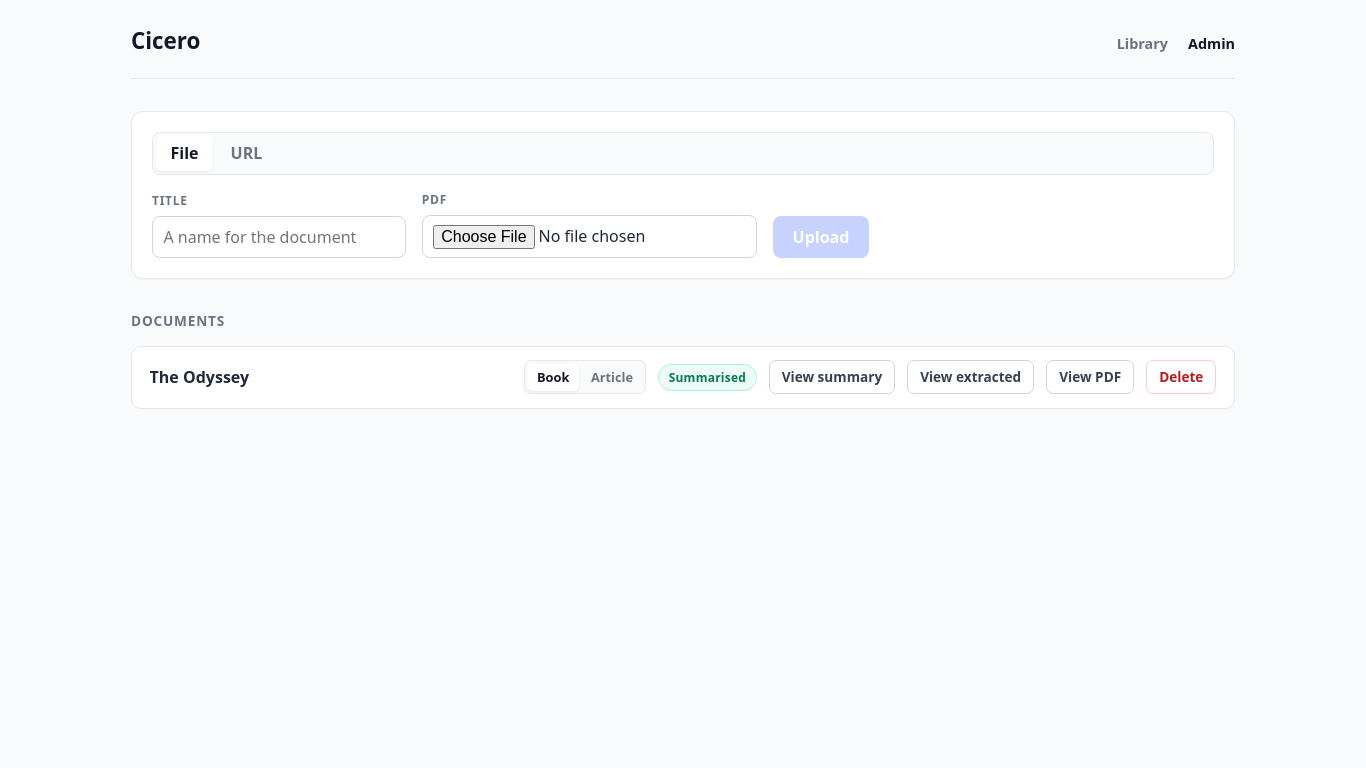
AdminPage › opens a summary for a summarised document
The width and height of the screenshot is (1366, 768).
Expected: the text "The Odyssey" is shown, [150,366,249,388]
Click the button "View summary" at (832, 377), box [769,360,895,394]
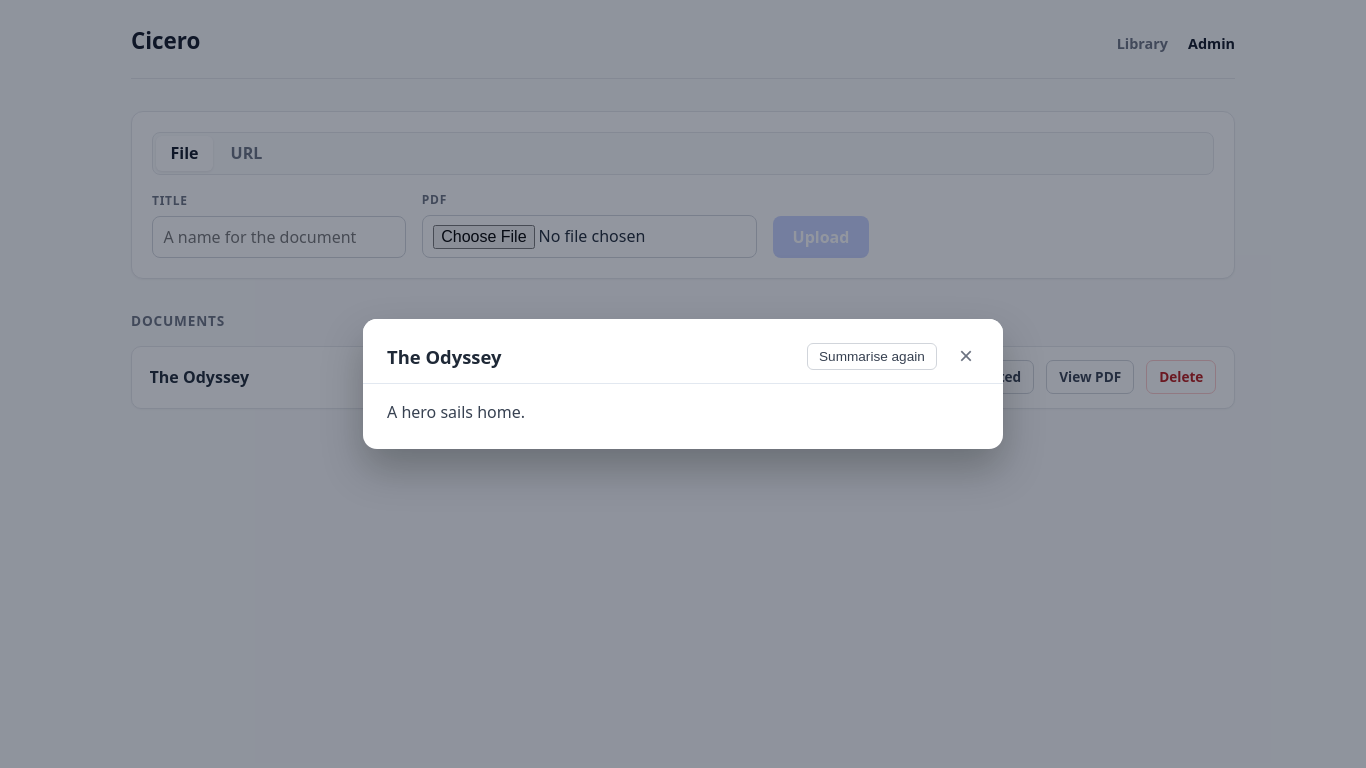
Result: the text "A hero sails home." is shown at [387,400,525,422]
